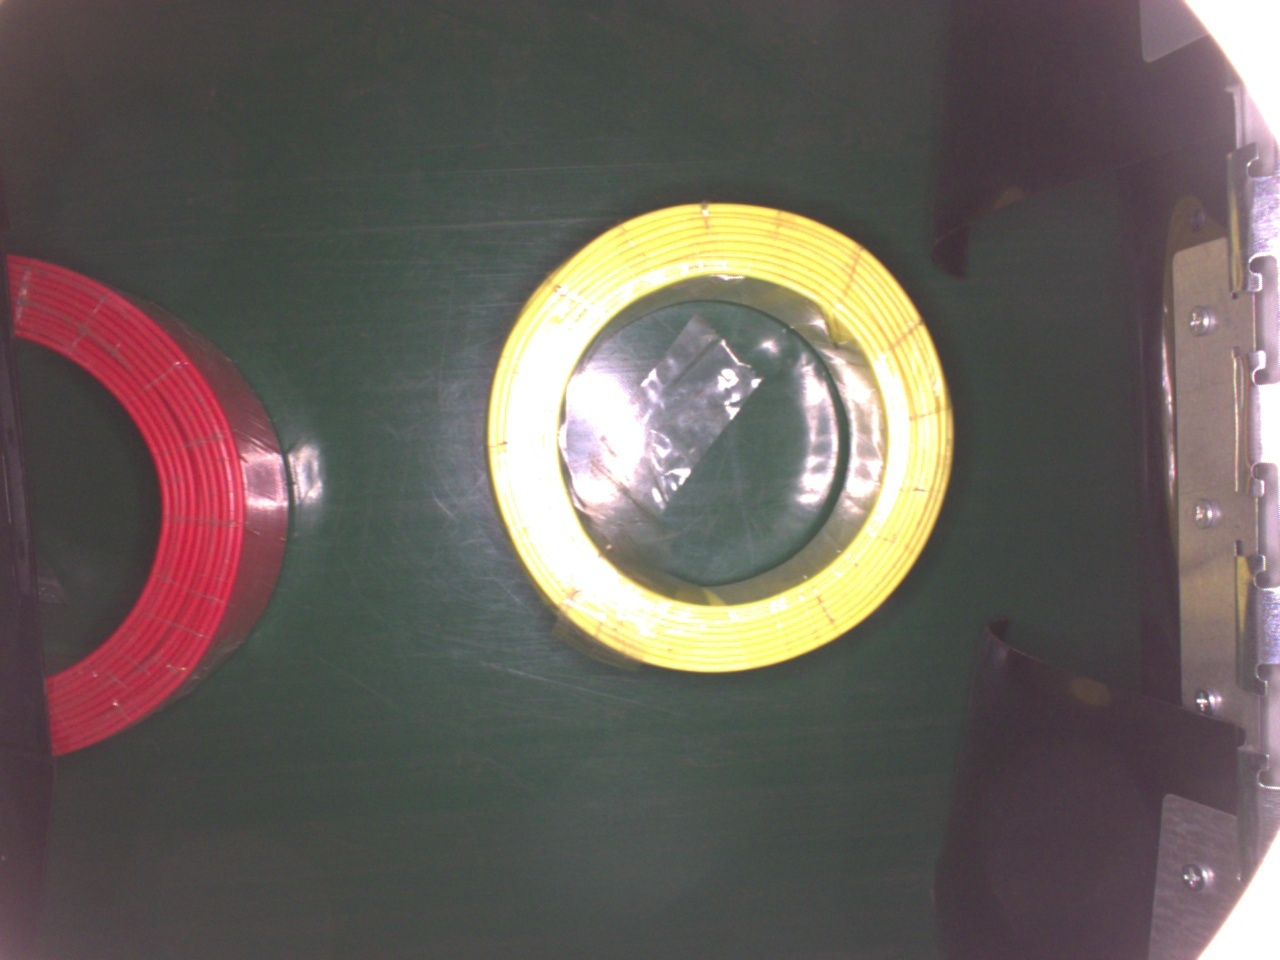red: (3, 253, 289, 760)
yellow: (489, 199, 954, 672)
